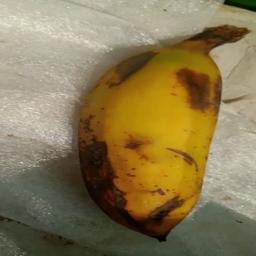Banana Semirotten: (71, 21, 248, 243)
